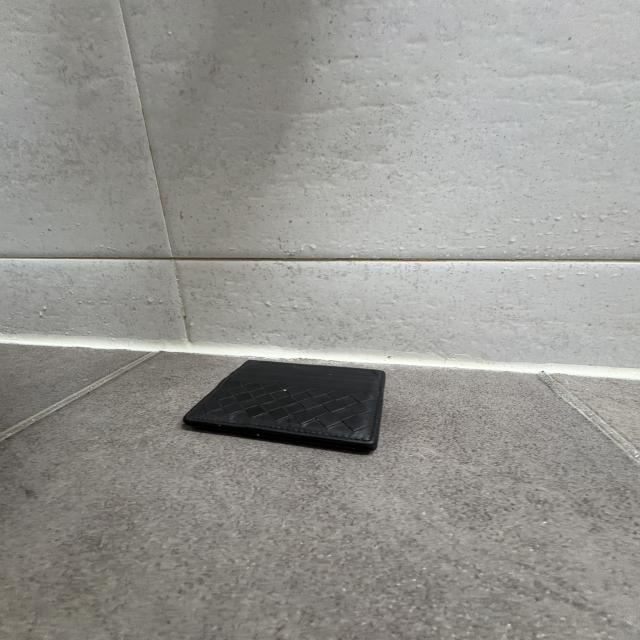wallet: (184, 357, 384, 461)
